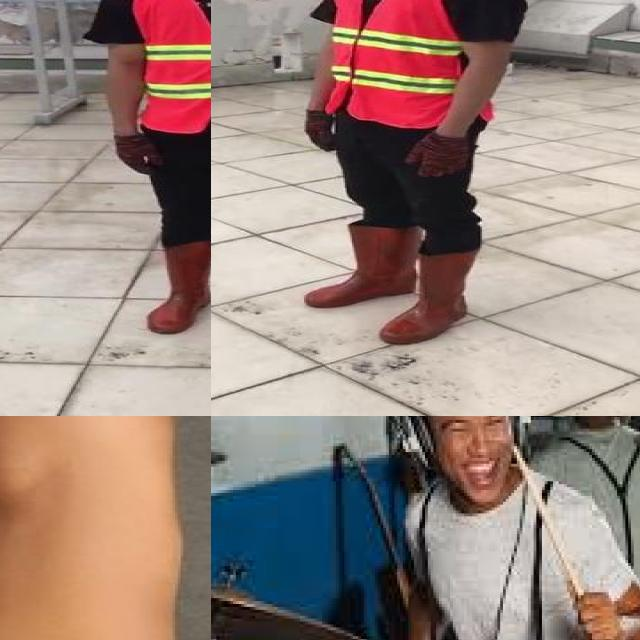Barefoots: (0, 416, 211, 640)
Ear-protection: (386, 416, 436, 466), (505, 416, 533, 451)
boots: (304, 227, 420, 308), (380, 251, 473, 344), (147, 242, 211, 335)
hand_glove: (400, 136, 475, 176), (114, 134, 164, 176), (304, 108, 338, 155)
person: (278, 0, 536, 356), (310, 416, 640, 640), (84, 0, 211, 340)
vest: (325, 0, 497, 128), (136, 0, 211, 135)
